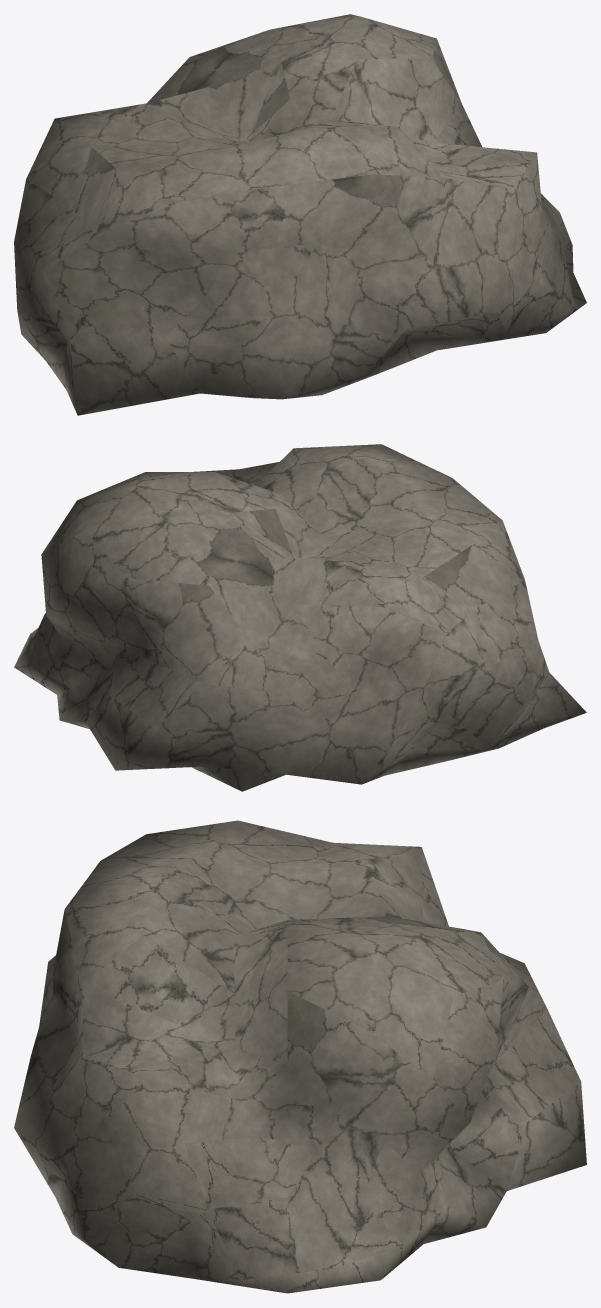
Rendered from rock_a.glb.
3 renders of one model, top to bottom at view 1: azimuth 30°, elevation 25°; view 2: azimuth 150°, elevation 25°; view 3: azimuth 270°, elevation 25°, orthographic. The views are drawn at different scales.
Visible parts, largest first — view 1: rock_a; view 2: rock_a; view 3: rock_a.
Part boxes in pixels (left/top/right/bottom): rock_a: left=14, top=14, right=586, bottom=415; rock_a: left=14, top=444, right=586, bottom=791; rock_a: left=14, top=820, right=586, bottom=1293.
Size of the model in its own units: 3.43 by 1.4 by 2.79.
1 material, 1 textured.
